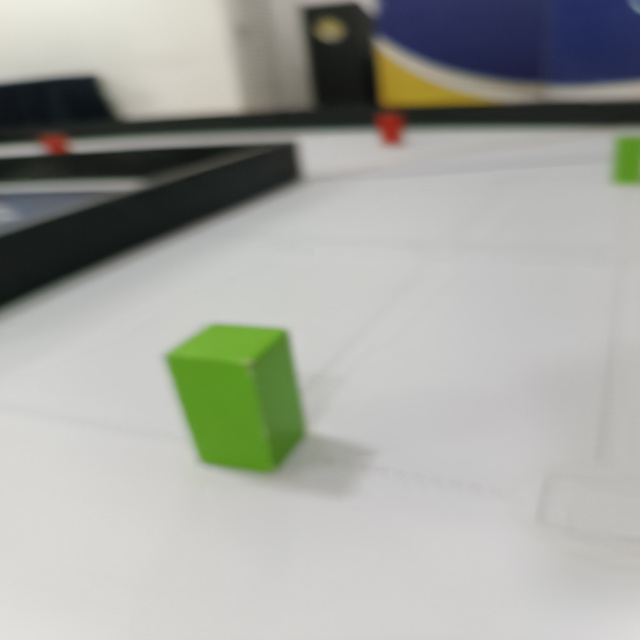green rectangular prism: (160, 327, 306, 471), (609, 134, 640, 186)
red rectangular prism: (374, 111, 405, 149)
